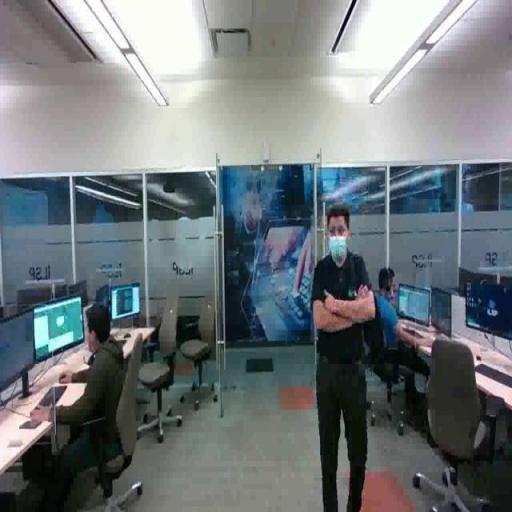person: (26, 302, 142, 506), (312, 202, 375, 512), (371, 265, 441, 393)
